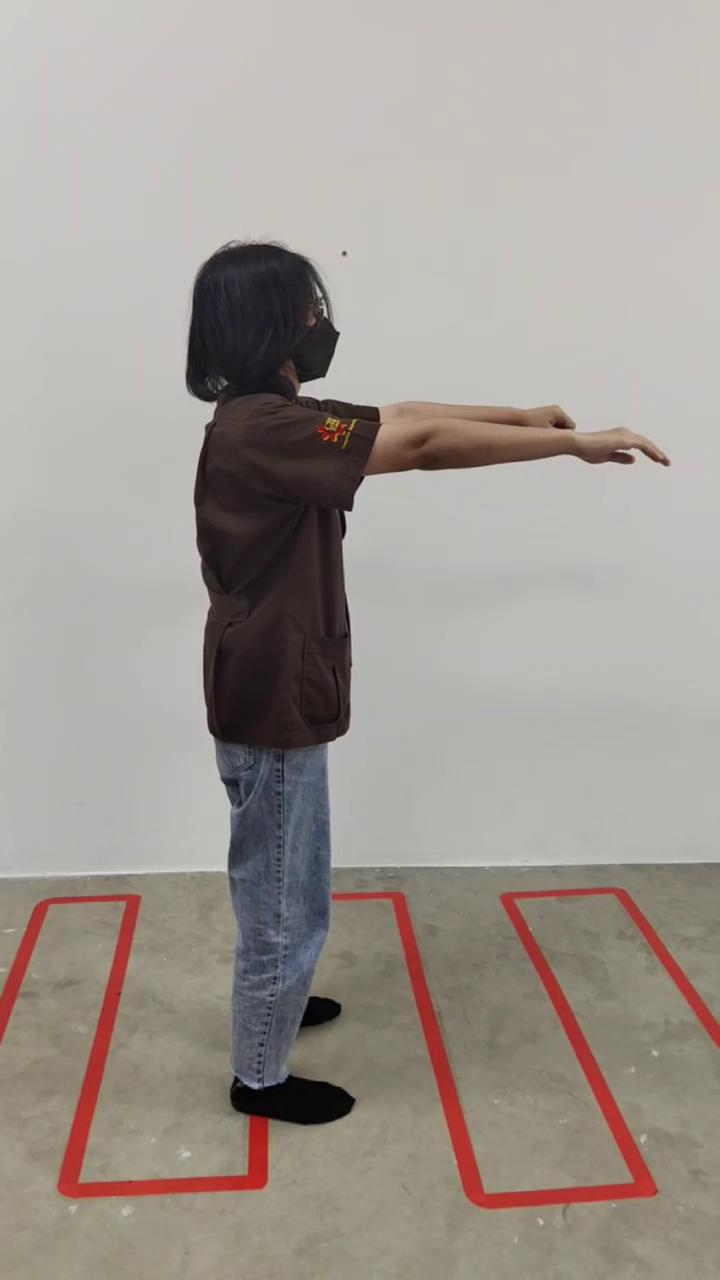squat up: (188, 242, 668, 1125)
